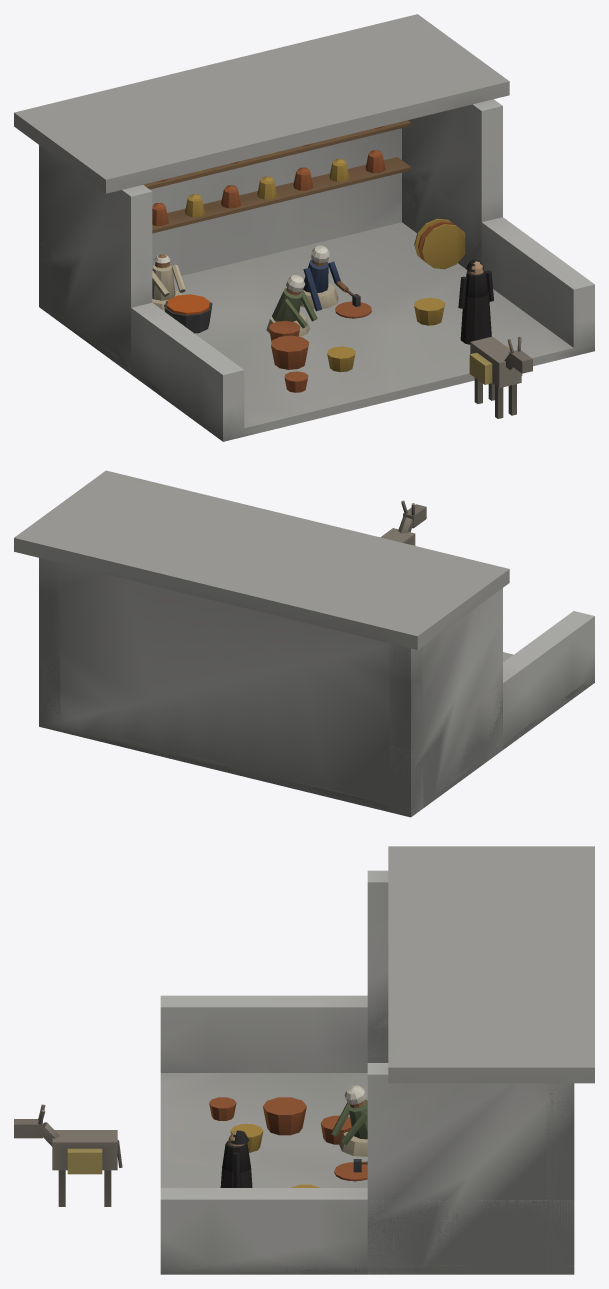
Rendered from forge.glb.
3 views of the same model, one above another, from view 1: azimuth 30°, elevation 25°; view 2: azimuth 150°, elevation 25°; view 3: azimuth 270°, elevation 25° (orthographic). The views are drawn at different scales.
Visible parts, largest first — view 1: base; view 2: base; view 3: base.
Part boxes in pixels (x1,y1,x2,y2): base: (14,14,594,441); base: (14,470,594,817); base: (14,846,594,1274).
Size of the model in its own units: 7.6 by 3.45 by 8.43.
